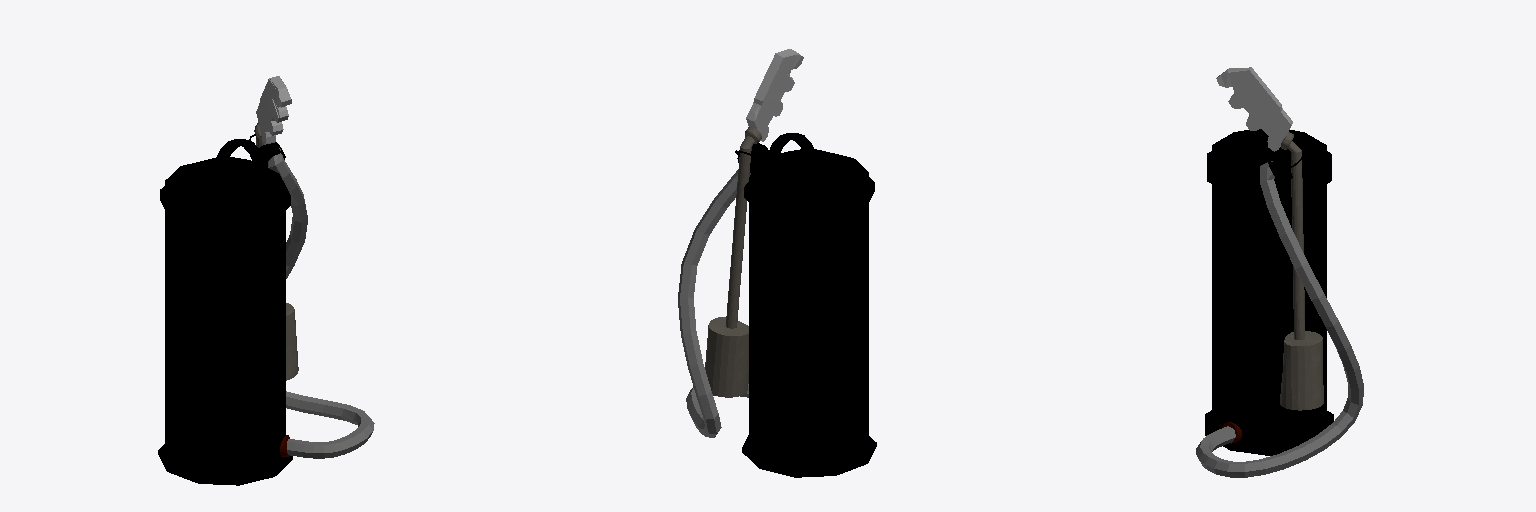
3 renders of one model, left to right at view 1: azimuth 30°, elevation 25°; view 2: azimuth 150°, elevation 25°; view 3: azimuth 270°, elevation 25°, orthographic.
Parts seen in each view (by area): view 1: body, defaultBrush1Main defaultBrush1MeshGroup, polySurface1, metal_handle; view 2: body, polySurface1, defaultBrush1Main defaultBrush1MeshGroup, metal_handle; view 3: body, polySurface1, defaultBrush1Main defaultBrush1MeshGroup, metal_handle, pCylinder7.
Part boxes in pixels (x1,y1,x2,y2): body: (158, 156, 292, 485); defaultBrush1Main defaultBrush1MeshGroup: (268, 148, 374, 458); polySurface1: (254, 76, 298, 380); metal_handle: (216, 139, 268, 187); body: (742, 148, 876, 477); polySurface1: (705, 49, 803, 397); defaultBrush1Main defaultBrush1MeshGroup: (678, 170, 750, 437); metal_handle: (763, 133, 813, 184); body: (1205, 130, 1333, 455); polySurface1: (1216, 67, 1323, 410); defaultBrush1Main defaultBrush1MeshGroup: (1196, 161, 1363, 477); metal_handle: (1228, 129, 1315, 161); pCylinder7: (1267, 151, 1292, 183).
Bounding box in the file's own units: 3.28 × 6.27 × 2.52.
5 materials, 1 textured.